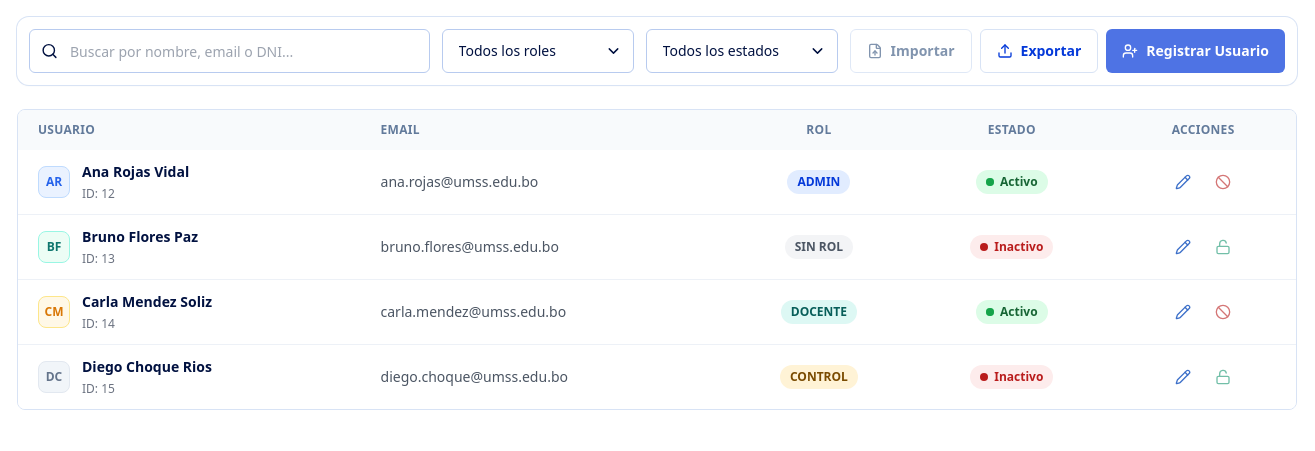
Test: UserListContent › informa si la exportación falla
The width and height of the screenshot is (1315, 451).
Click the button with aria-label "Exportar usuarios en CSV": (1039, 51) [980, 29, 1098, 73]
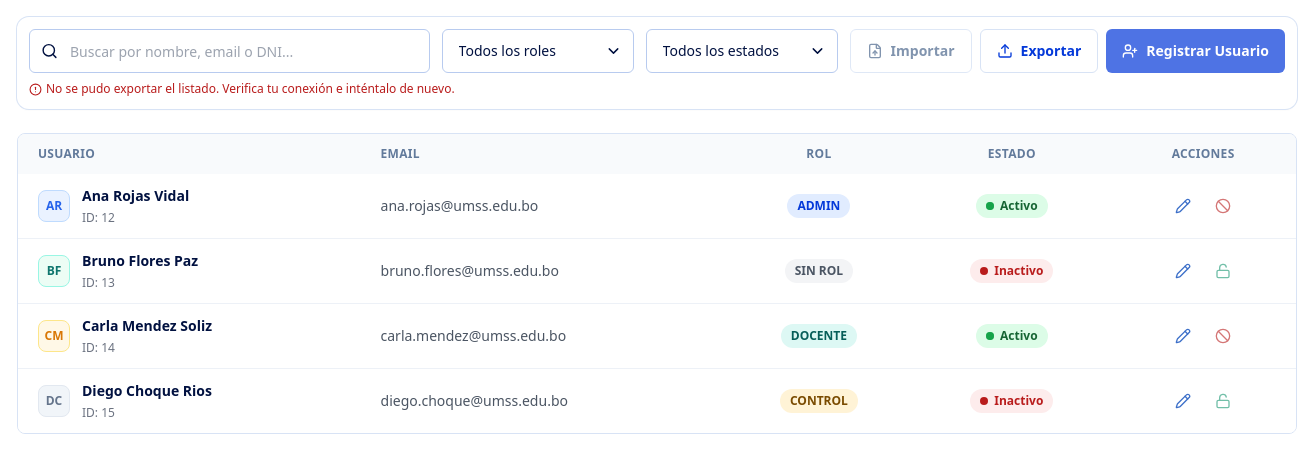
Check: the text "No se pudo exportar el listado. Verifica tu conexión e inténtalo de nuevo." is shown, box [29, 80, 455, 97]
